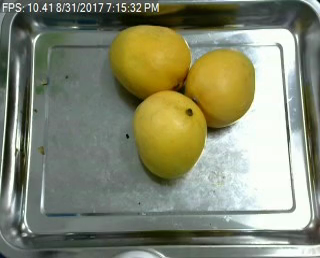Mango: (128, 90, 205, 180), (107, 23, 188, 96), (185, 50, 254, 126)
